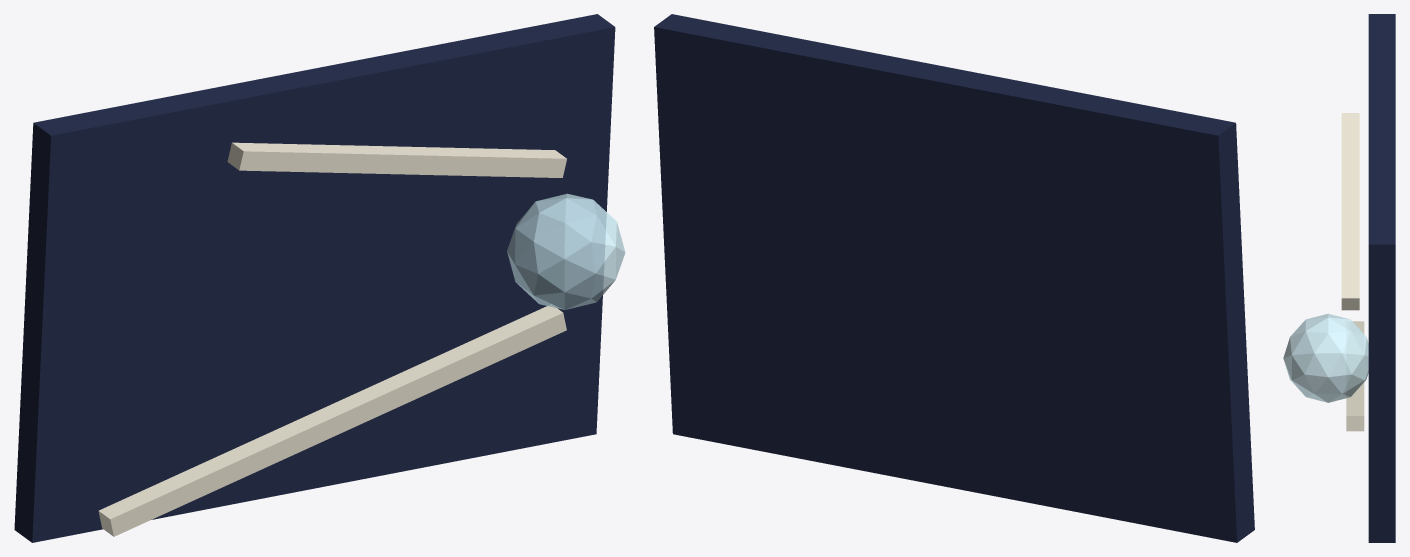
The model's file is 02_world_prop_polish.glb.
3 renders of one model, left to right at view 1: azimuth 30°, elevation 25°; view 2: azimuth 150°, elevation 25°; view 3: azimuth 270°, elevation 25°, orthographic. The views are drawn at different scales.
Visible parts, largest first — view 1: object_overlay_plate, edge_wear_a, glow_socket, edge_wear_b; view 2: object_overlay_plate; view 3: object_overlay_plate, glow_socket, edge_wear_b, edge_wear_a.
Boxes of the visible parts, <box> form: object_overlay_plate: <box>14,14,615,542</box>; edge_wear_a: <box>98,305,566,536</box>; glow_socket: <box>507,193,625,309</box>; edge_wear_b: <box>227,142,566,177</box>; object_overlay_plate: <box>654,14,1254,542</box>; object_overlay_plate: <box>1368,14,1395,542</box>; glow_socket: <box>1283,313,1368,402</box>; edge_wear_b: <box>1341,113,1359,310</box>; edge_wear_a: <box>1346,321,1364,431</box>.
Bounding box in the file's own units: 1.14 × 0.8029 × 0.25.
